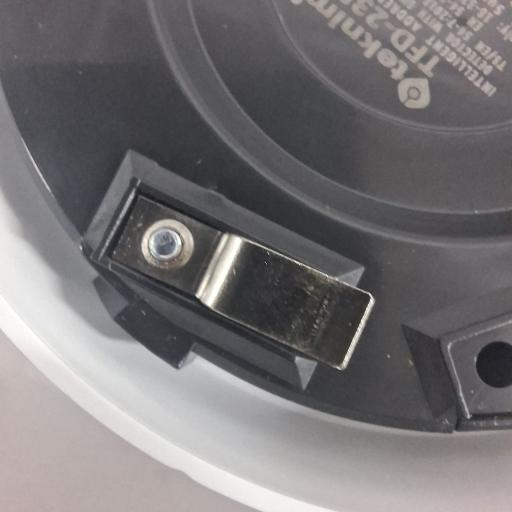yaysiz: (100, 189, 367, 370)
